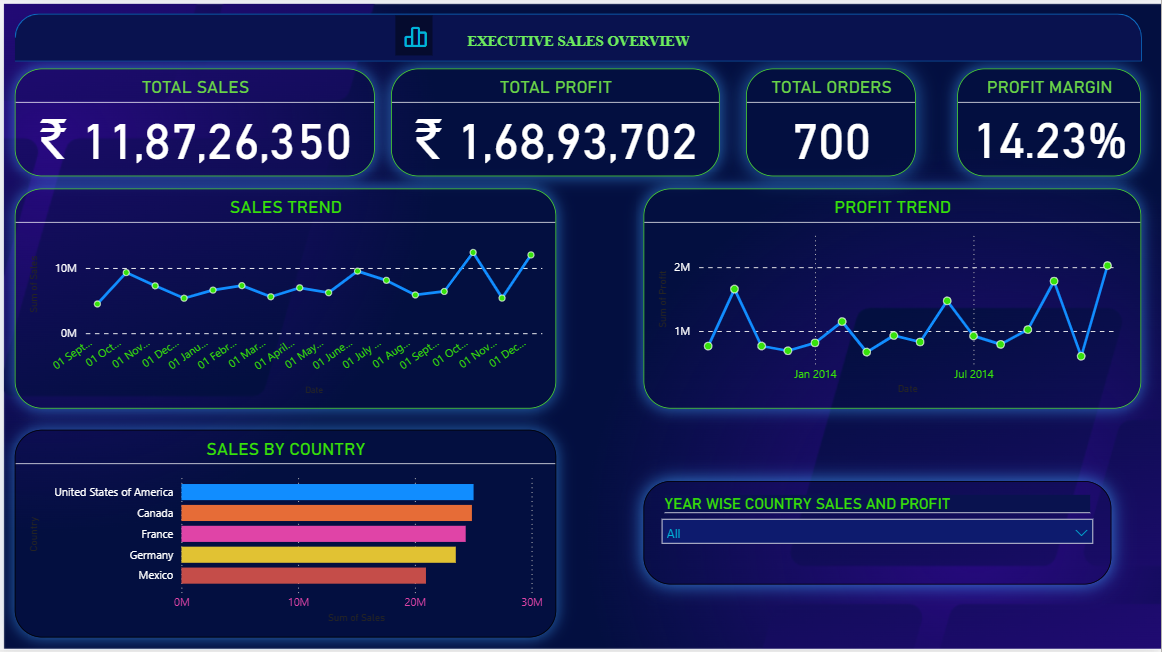

This screenshot's page, from the dashboard's own definition file:
{"tool":"powerbi","page":{"name":"Executive Sales Overview","canvas":[1280,720],"ordinal":0},"visuals":[{"type":"lineChart","title":"SALES TREND","fields":{"Y":["Sum(Financials. Sales)"],"Category":["Financials.Date.Variation.Date Hierarchy.Year"]},"box":[20.6,211.4,594.2,241.5],"z":0,"group":"g2"},{"type":"lineChart","title":"PROFIT TREND","fields":{"Category":["Financials.Date.Variation.Date Hierarchy.Year"],"Y":["Sum(Financials.Profit)"]},"box":[710.9,211.4,546.1,241.5],"z":1000,"group":"g2"},{"type":"clusteredBarChart","title":"SALES BY COUNTRY","fields":{"Category":["Financials.Country"],"Y":["Sum(Financials. Sales)"]},"box":[20.6,476.2,594.2,227.8],"z":2000,"group":"g2"},{"type":"slicer","fields":{"Values":["Financials.Year","Financials.Country","Financials.Segment","Financials.Product"]},"box":[710.9,532.5,513.2,113.9],"z":3000,"group":"g2"},{"type":"card","title":"TOTAL SALES","fields":{"Values":["DAX Measures.TotalSales"]},"box":[20.6,79.6,395.2,118],"z":4000,"group":"g2"},{"type":"card","title":"TOTAL PROFIT","fields":{"Values":["DAX Measures.TotalProfit"]},"box":[433.7,79.6,360.9,118],"z":5000,"group":"g2"},{"type":"card","title":"TOTAL ORDERS","fields":{"Values":["DAX Measures.TOTAL ORDERS"]},"box":[823.4,79.6,186.6,118],"z":6000,"group":"g2"},{"type":"card","title":"PROFIT MARGIN","fields":{"Values":["DAX Measures.Profit Margin %"]},"box":[1055.3,79.6,201.7,118],"z":7000,"group":"g2"},{"type":"shape","box":[20,18.6,1237.2,52.7],"z":8000,"group":"g1"},{"type":"image","box":[433.7,16.5,50.8,53.5],"z":9000,"group":"g1"},{"type":"group","id":"g1","title":"Group 1","box":[20,16.5,1237.2,54.8],"z":9001,"group":"g2"},{"type":"group","id":"g2","title":"Group 2","box":[20,16.5,1237.2,687.5],"z":9002}]}

Visuals, with their boxes in screenshot pixels (x1, y1, x2, y2), scaled from the page's 1280x720 canvas onto the 1162x652 screenshot:
"SALES TREND" lineChart: 19, 191, 558, 410
"PROFIT TREND" lineChart: 645, 191, 1141, 410
"SALES BY COUNTRY" clusteredBarChart: 19, 431, 558, 638
slicer - Financials.Year x Financials.Country: 645, 482, 1111, 585
"TOTAL SALES" card: 19, 72, 377, 179
"TOTAL PROFIT" card: 394, 72, 721, 179
"TOTAL ORDERS" card: 747, 72, 917, 179
"PROFIT MARGIN" card: 958, 72, 1141, 179
shape: 18, 17, 1141, 65
image: 394, 15, 440, 63
"Group 1" group: 18, 15, 1141, 65
"Group 2" group: 18, 15, 1141, 638
